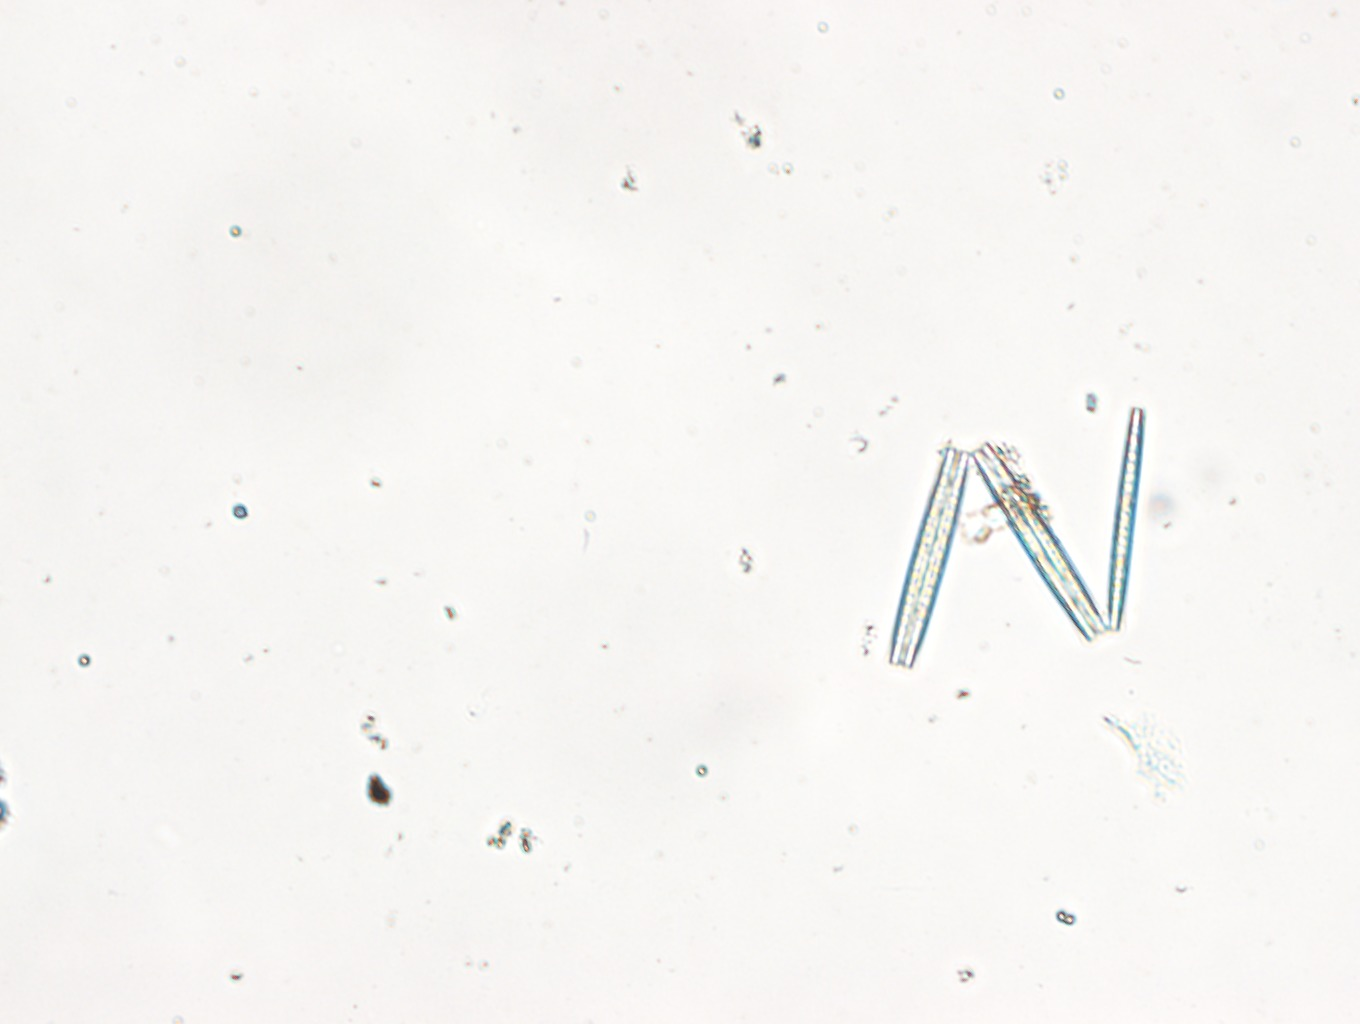thalassionema nitzschioides: (884, 403, 1145, 668)
